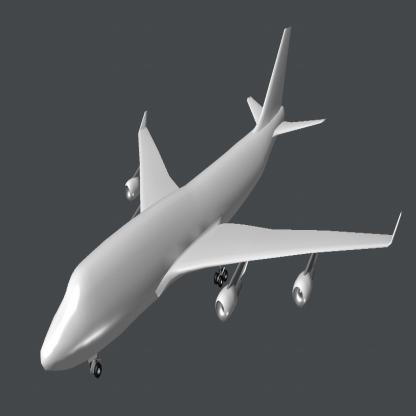CIV_Plane: (35, 22, 404, 389)
